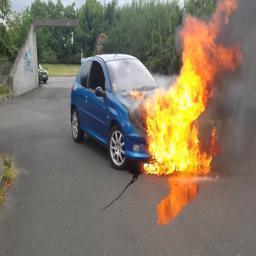fire: (131, 0, 240, 174)
